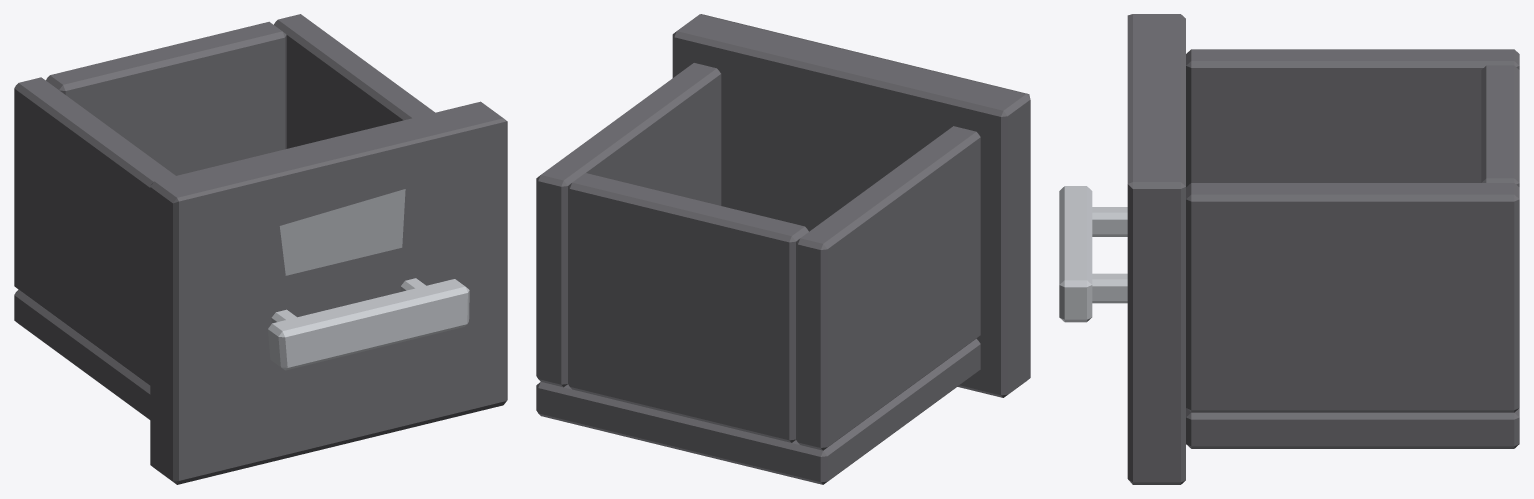
The model's file is Shelving_4_box_8.fbx.
3 views of the same model, side by side, from view 1: azimuth 30°, elevation 25°; view 2: azimuth 150°, elevation 25°; view 3: azimuth 270°, elevation 25° (orthographic). The views are drawn at different scales.
Parts seen in each view (by area): view 1: Shelving_4_box_8; view 2: Shelving_4_box_8; view 3: Shelving_4_box_8.
Boxes of the visible parts, x1,y1,x2,y2 form: Shelving_4_box_8: (14, 14, 507, 484); Shelving_4_box_8: (536, 14, 1030, 484); Shelving_4_box_8: (1059, 14, 1519, 484).
Size of the model in its own units: 0.3336 by 0.2733 by 0.3762.
